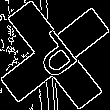P_SE: (25, 24, 85, 86)
